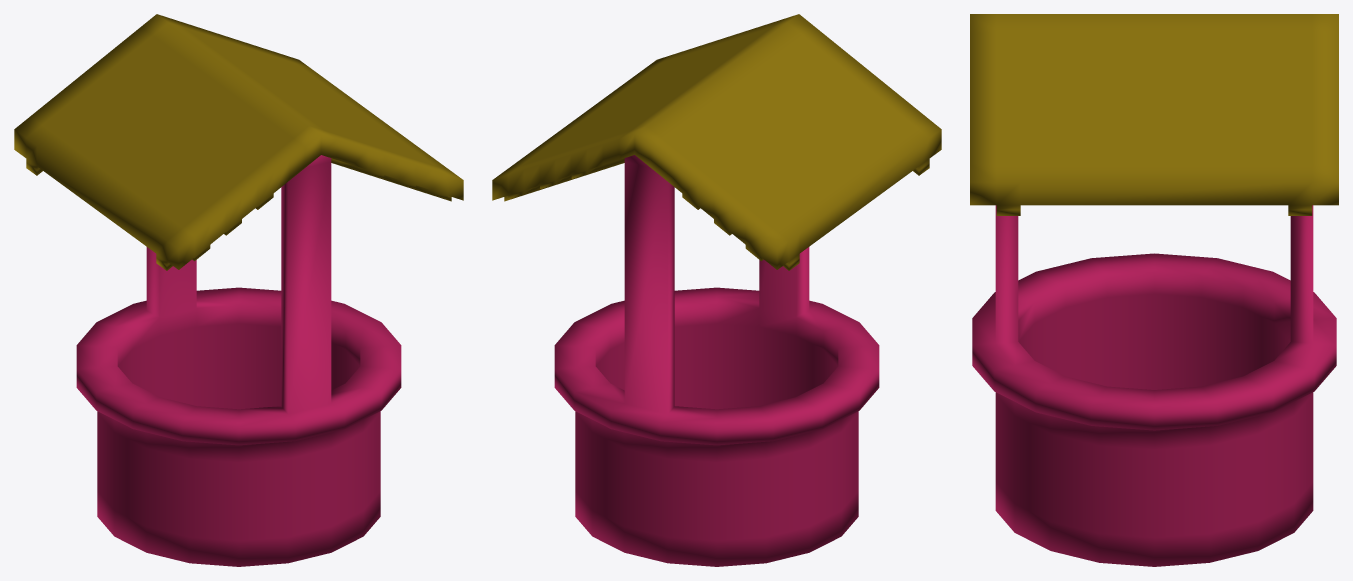
Rendered from puit.fbx.
The picture shows the model from 3 angles, left to right: view 1: azimuth 30°, elevation 25°; view 2: azimuth 150°, elevation 25°; view 3: azimuth 270°, elevation 25°; orthographic projection. The views are drawn at different scales.
Parts seen in each view (by area): view 1: base_puit, toit_puit; view 2: base_puit, toit_puit; view 3: base_puit, toit_puit.
Boxes of the visible parts, x1,y1,x2,y2 form: base_puit: (76,155,401,566); toit_puit: (14,14,463,270); base_puit: (554,155,879,566); toit_puit: (492,14,941,270); base_puit: (972,205,1336,566); toit_puit: (970,14,1338,215).
Size of the model in its own units: 160 by 232 by 160.
